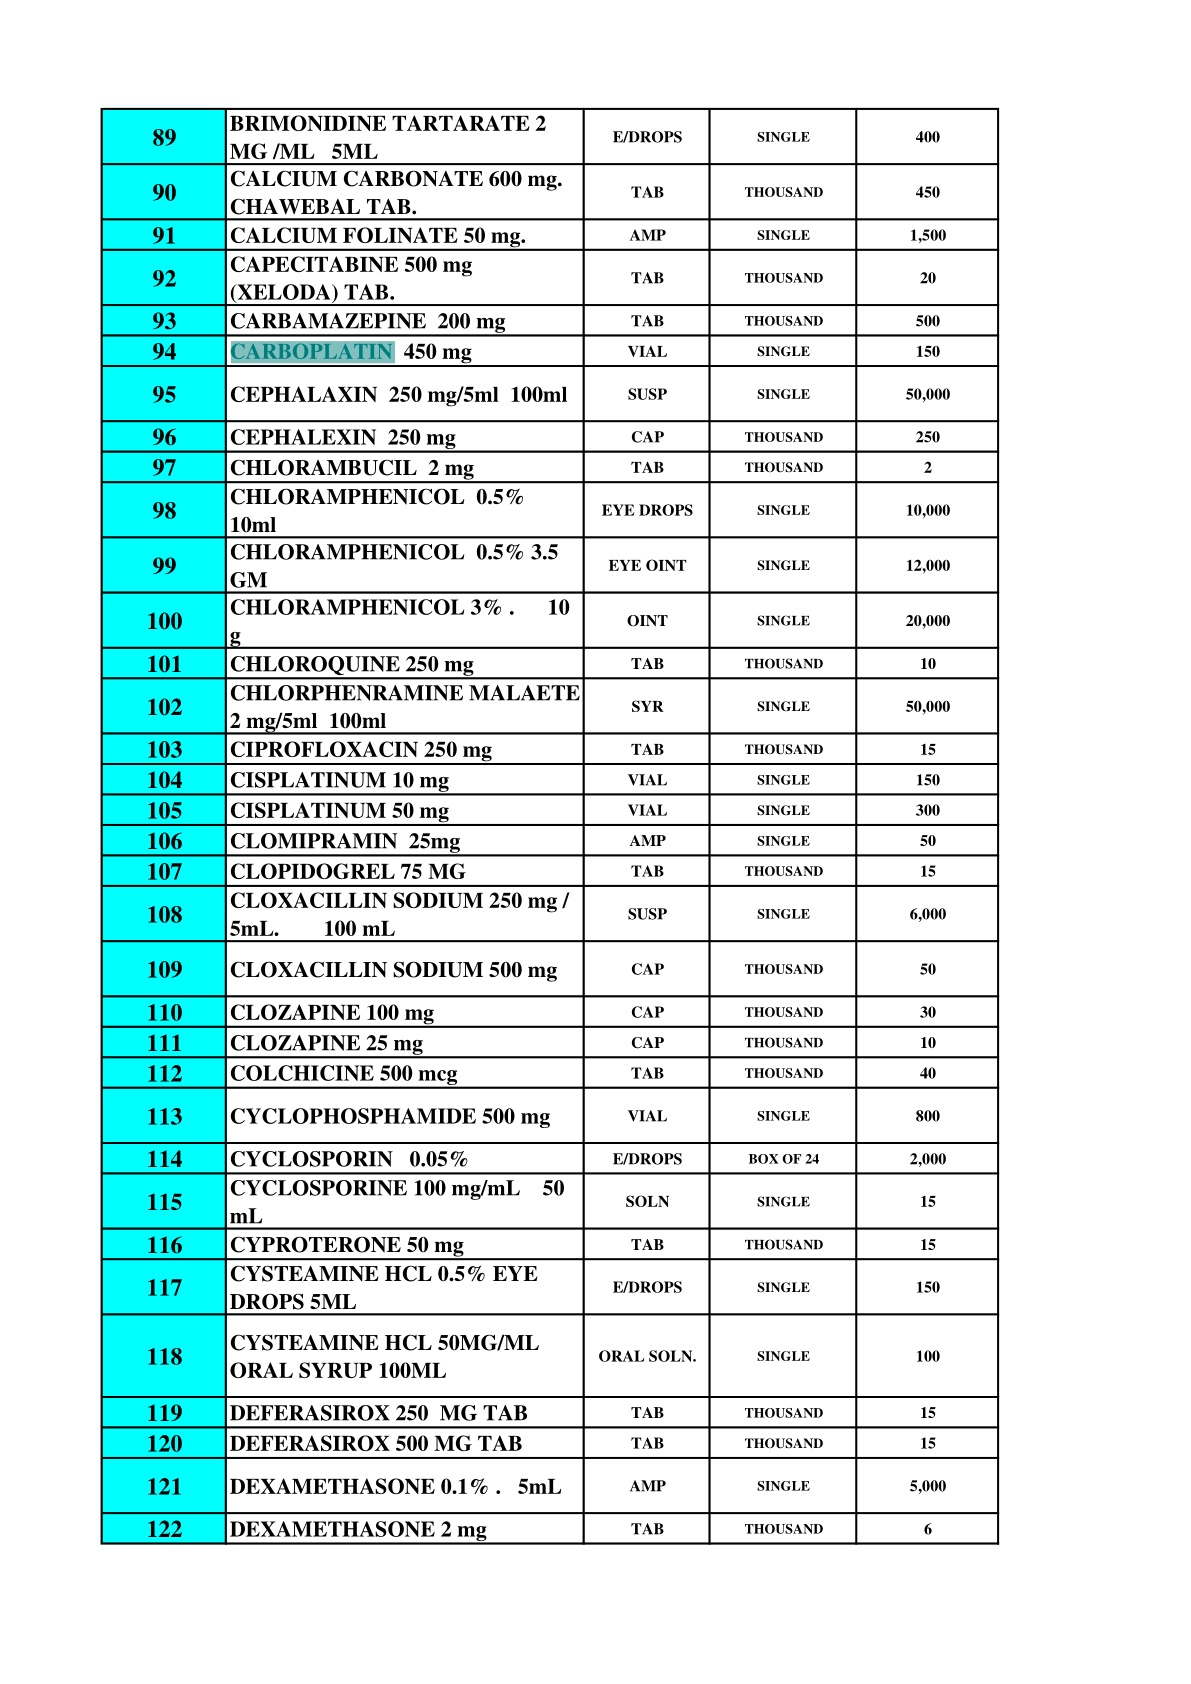full_lined: (101, 107, 1000, 1546)
